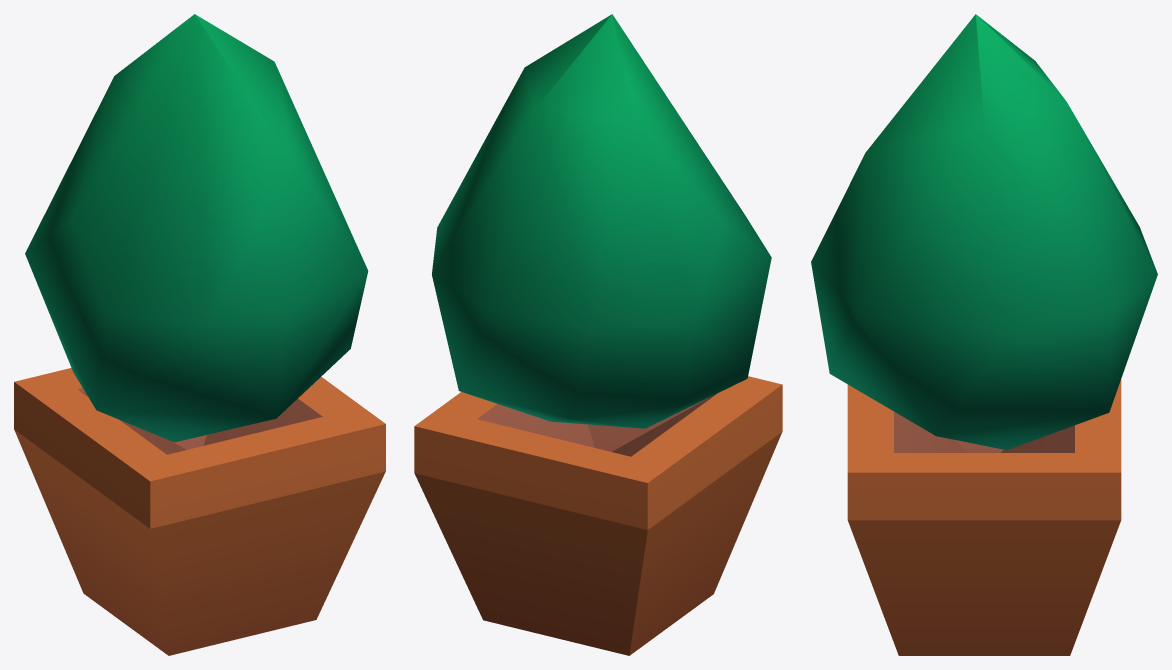
The model's file is Bush.glb.
The picture shows the model from 3 angles, left to right: view 1: azimuth 30°, elevation 25°; view 2: azimuth 150°, elevation 25°; view 3: azimuth 270°, elevation 25°; orthographic projection.
Visible parts, largest first — view 1: bush; view 2: bush; view 3: bush.
Part boxes in pixels (x1,y1,x2,y2): bush: (14, 14, 385, 655); bush: (414, 14, 782, 655); bush: (811, 14, 1157, 655).
Bounding box in the file's own units: 0.1894 × 0.3805 × 0.1991.
Materials: 1 (1 with a texture image).
